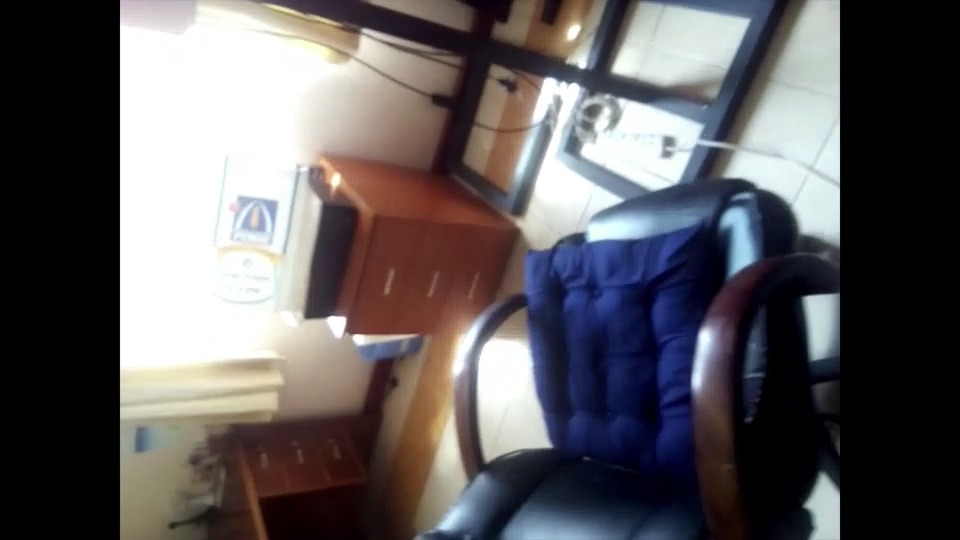wheat_flour_blue_label: (186, 155, 271, 284)
